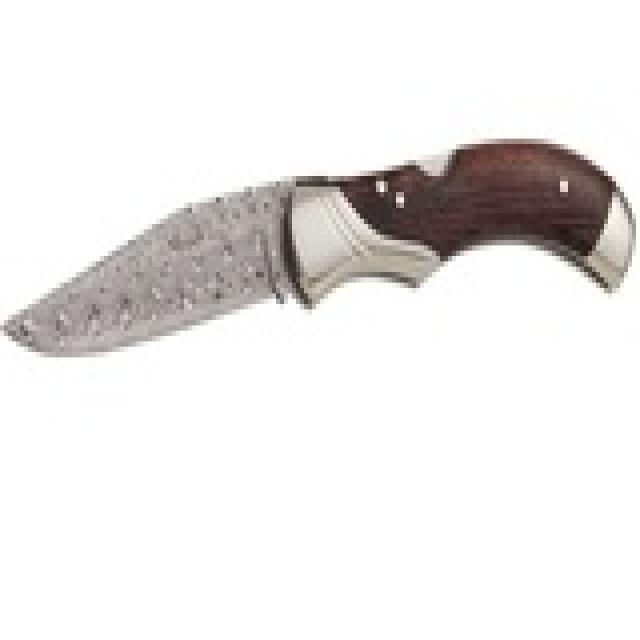Knife: (1, 131, 640, 380)
